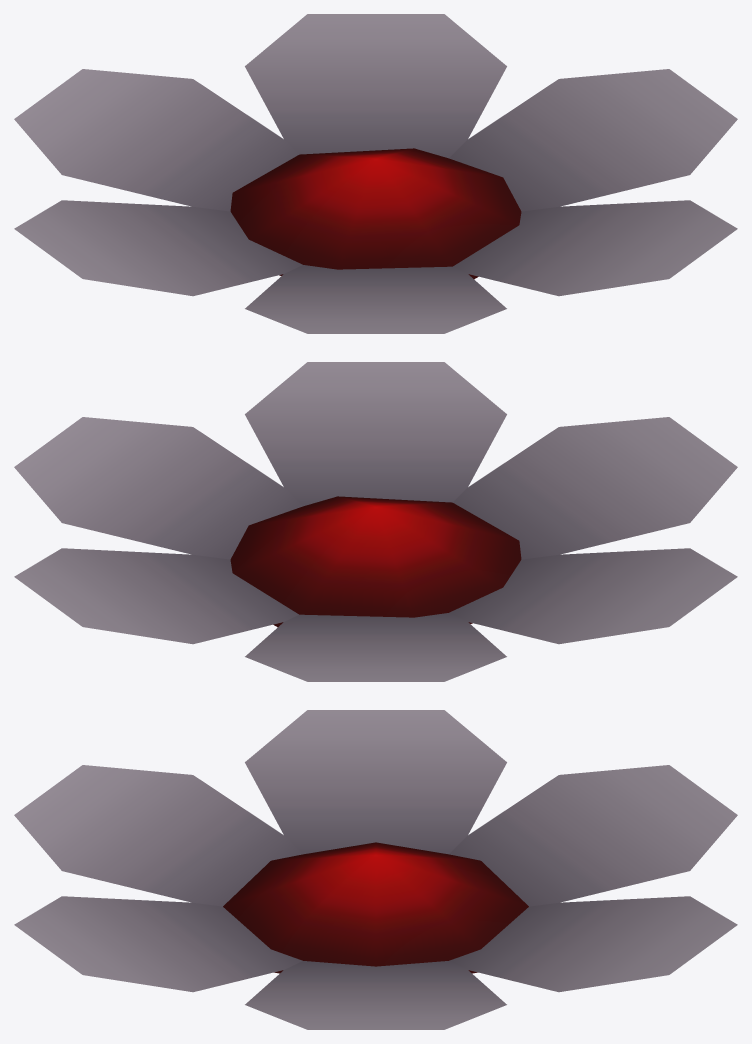
File: Flower_1C.fbx
3 renders of one model, top to bottom at view 1: azimuth 30°, elevation 25°; view 2: azimuth 150°, elevation 25°; view 3: azimuth 270°, elevation 25°, orthographic.
Parts seen in each view (by area): view 1: Flower_1C; view 2: Flower_1C; view 3: Flower_1C.
Boxes of the visible parts, x1=… form: Flower_1C: x1=14, y1=14, x2=737, y2=333; Flower_1C: x1=14, y1=362, x2=737, y2=681; Flower_1C: x1=14, y1=710, x2=737, y2=1029.
Size of the model in its own units: 54.85 by 5.21 by 52.48.
